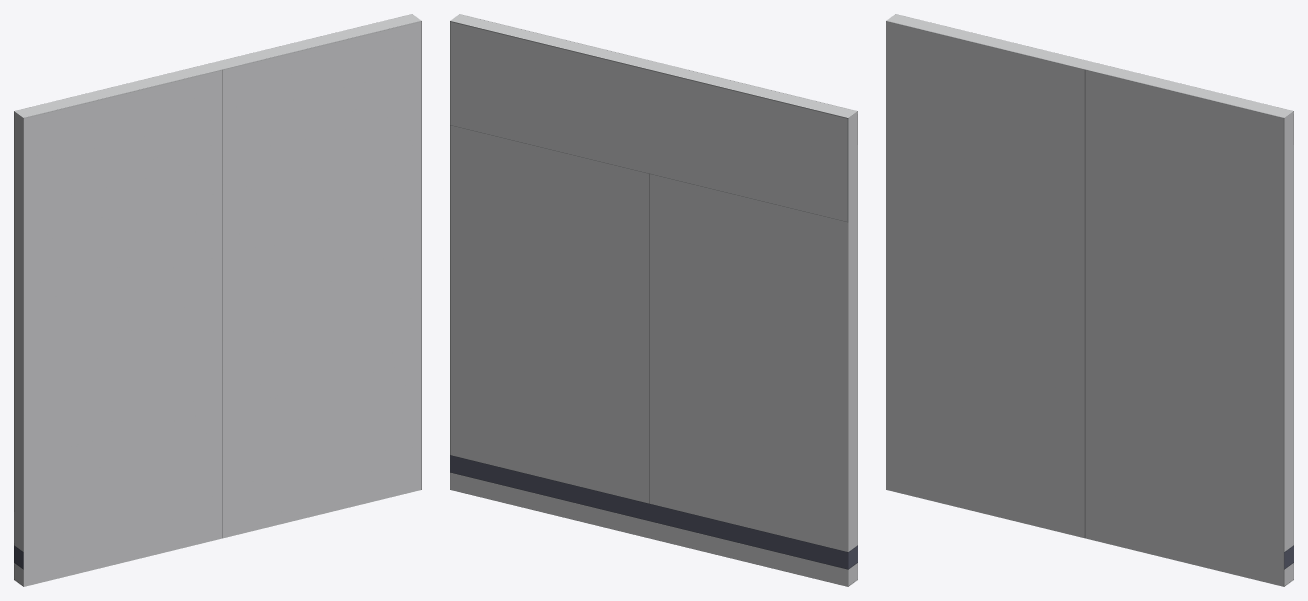
File: Wall_Normal_01.FBX
3 renders of one model, left to right at view 1: azimuth 30°, elevation 25°; view 2: azimuth 150°, elevation 25°; view 3: azimuth 330°, elevation 25°, orthographic.
Visible parts, largest first — view 1: Wall_Normal_01; view 2: Wall_Normal_01; view 3: Wall_Normal_01.
Part boxes in pixels (x1=…): Wall_Normal_01: x1=14, y1=14, x2=421, y2=586; Wall_Normal_01: x1=450, y1=14, x2=857, y2=586; Wall_Normal_01: x1=886, y1=14, x2=1293, y2=586.
Size of the model in its own units: 6 by 6.75 by 0.25.
Materials: 1 (1 with a texture image).
